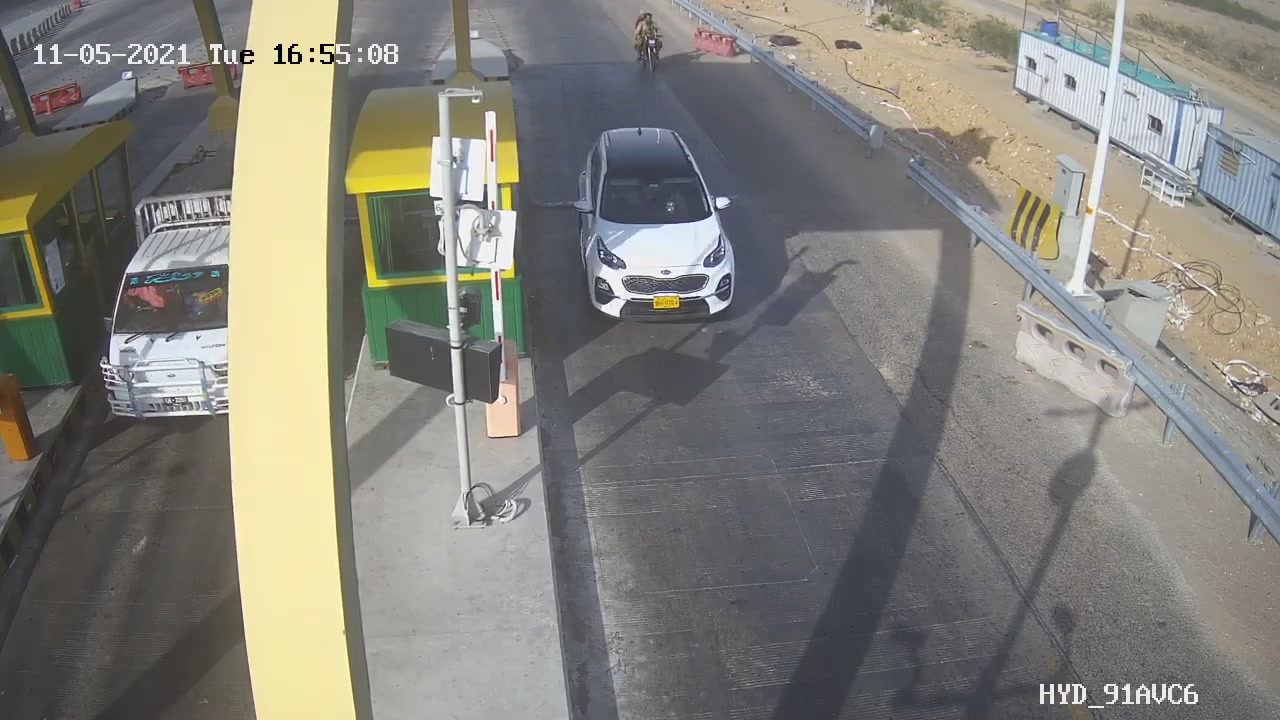F1: (560, 111, 763, 336)
